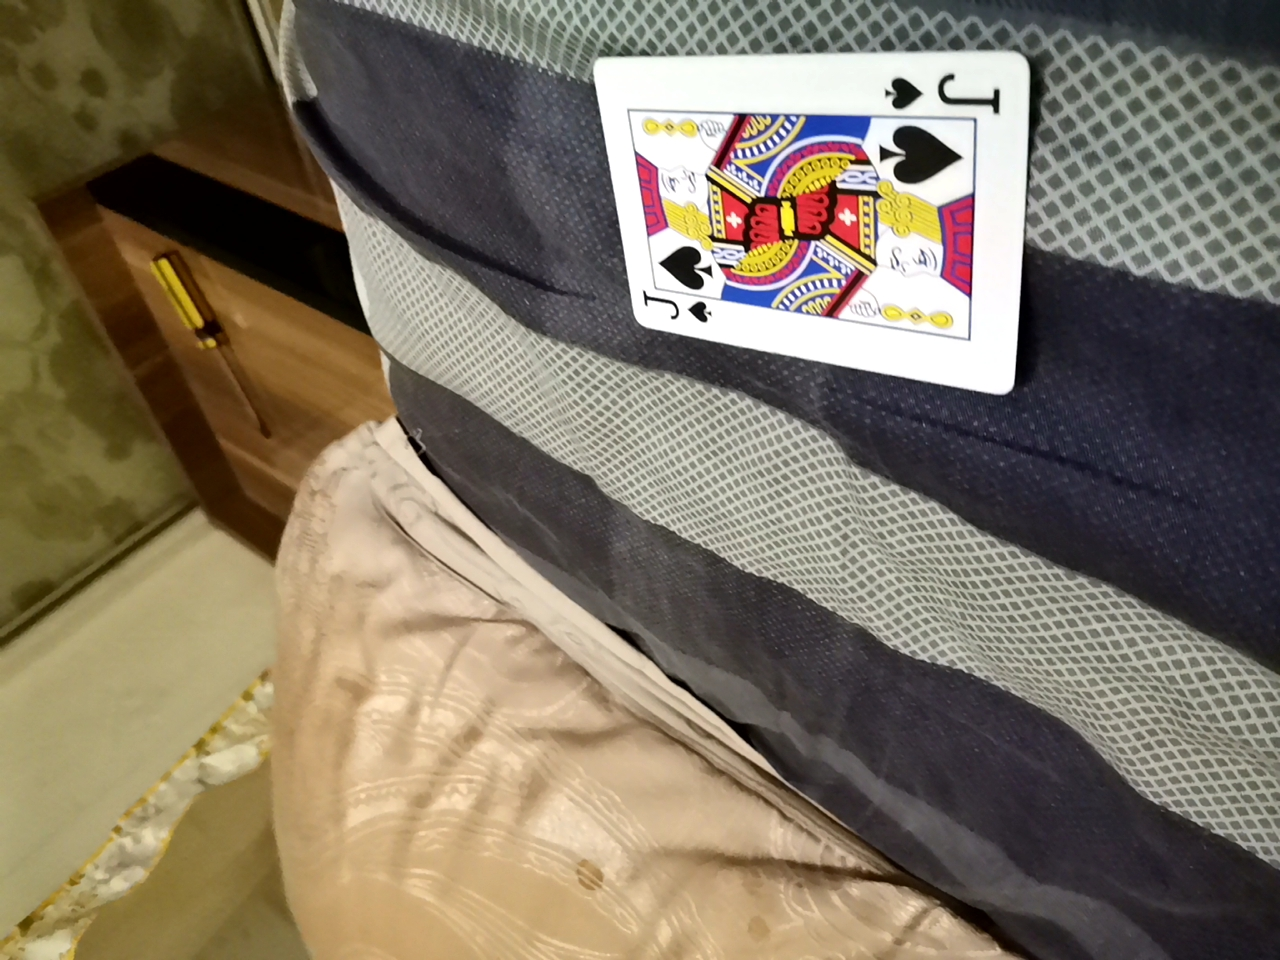ht j: (596, 26, 1026, 401)
